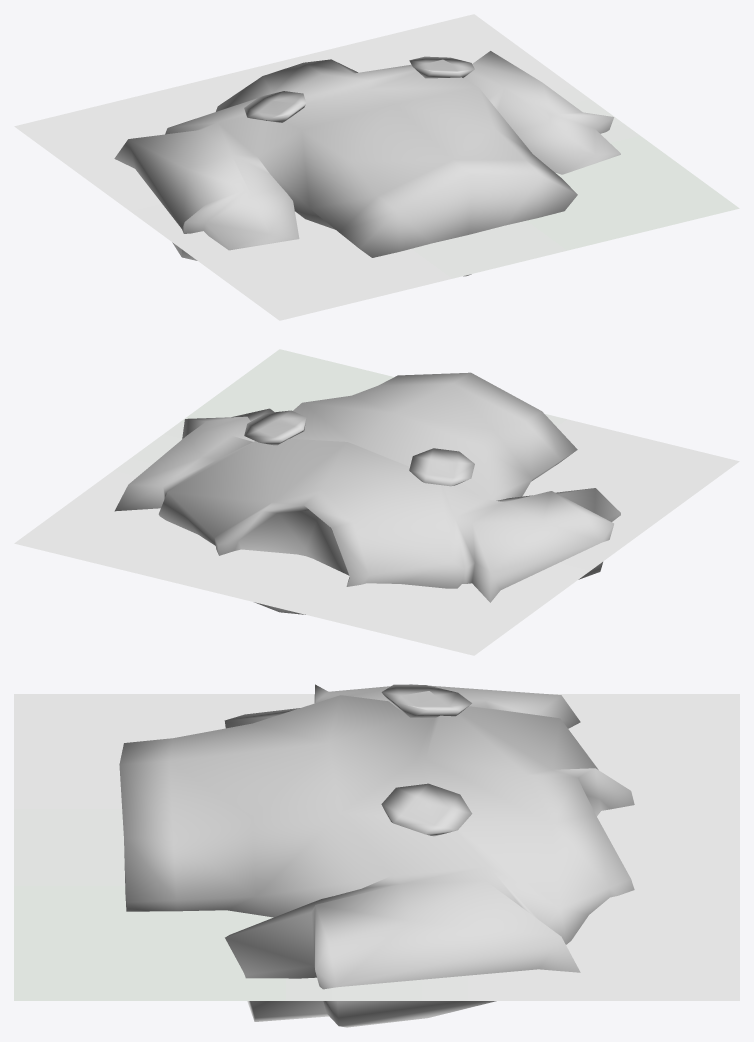
Rendered from ITAR_WS_M_PLAYER.glb.
3 views of the same model, one above another, from view 1: azimuth 30°, elevation 25°; view 2: azimuth 150°, elevation 25°; view 3: azimuth 270°, elevation 25° (orthographic). The views are drawn at different scales.
Parts seen in each view (by area): view 1: Mesh; view 2: Mesh; view 3: Mesh.
Part boxes in pixels (x1=…): Mesh: x1=14, y1=14, x2=739, y2=320; Mesh: x1=14, y1=349, x2=739, y2=655; Mesh: x1=14, y1=684, x2=739, y2=1027.
Bounding box in the file's own units: 0.7536 × 0.2025 × 0.7536.
2 materials, 1 textured.
